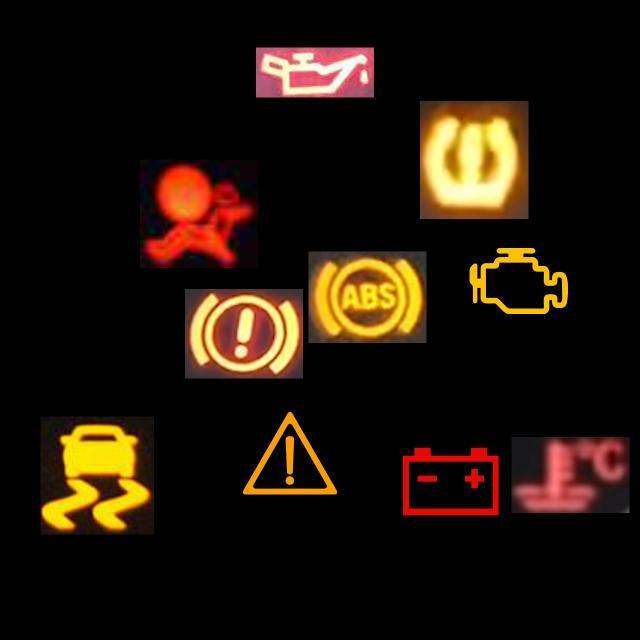Central Warning lamp: (231, 394, 349, 512)
Engine cooling system: (512, 437, 630, 513)
